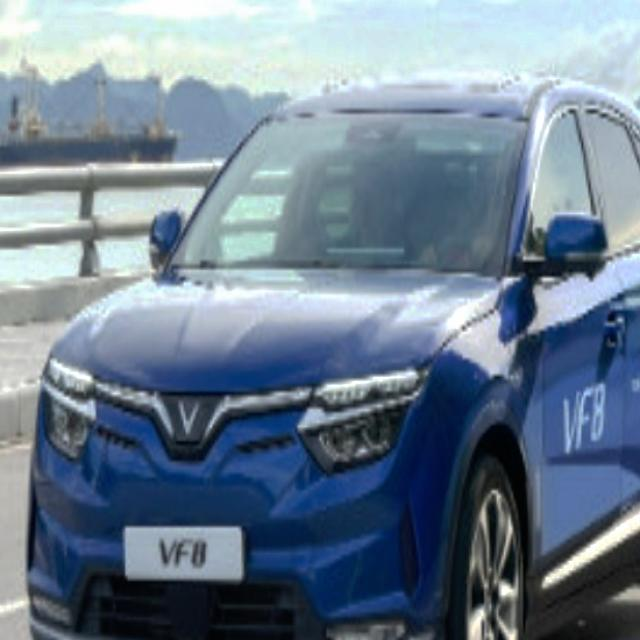Car: (23, 73, 640, 640)
